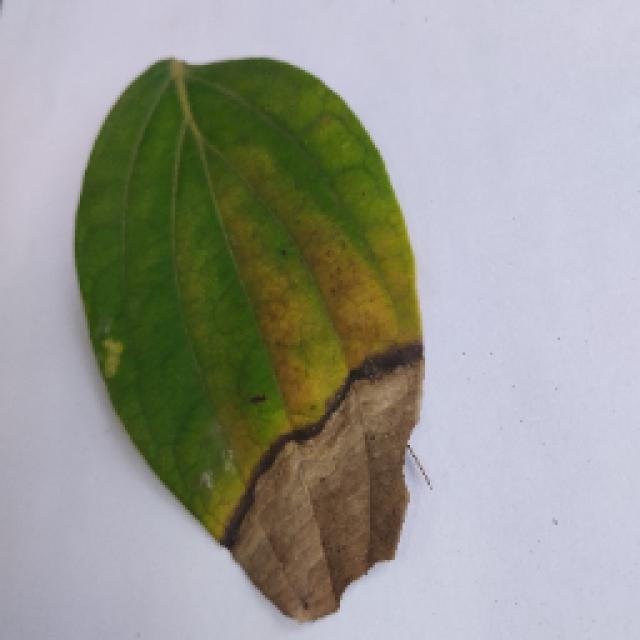footrot: (58, 65, 438, 630)
